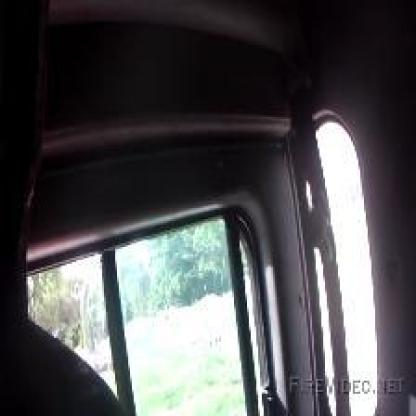other: (308, 120, 370, 376), (98, 312, 226, 346), (63, 251, 155, 282)
